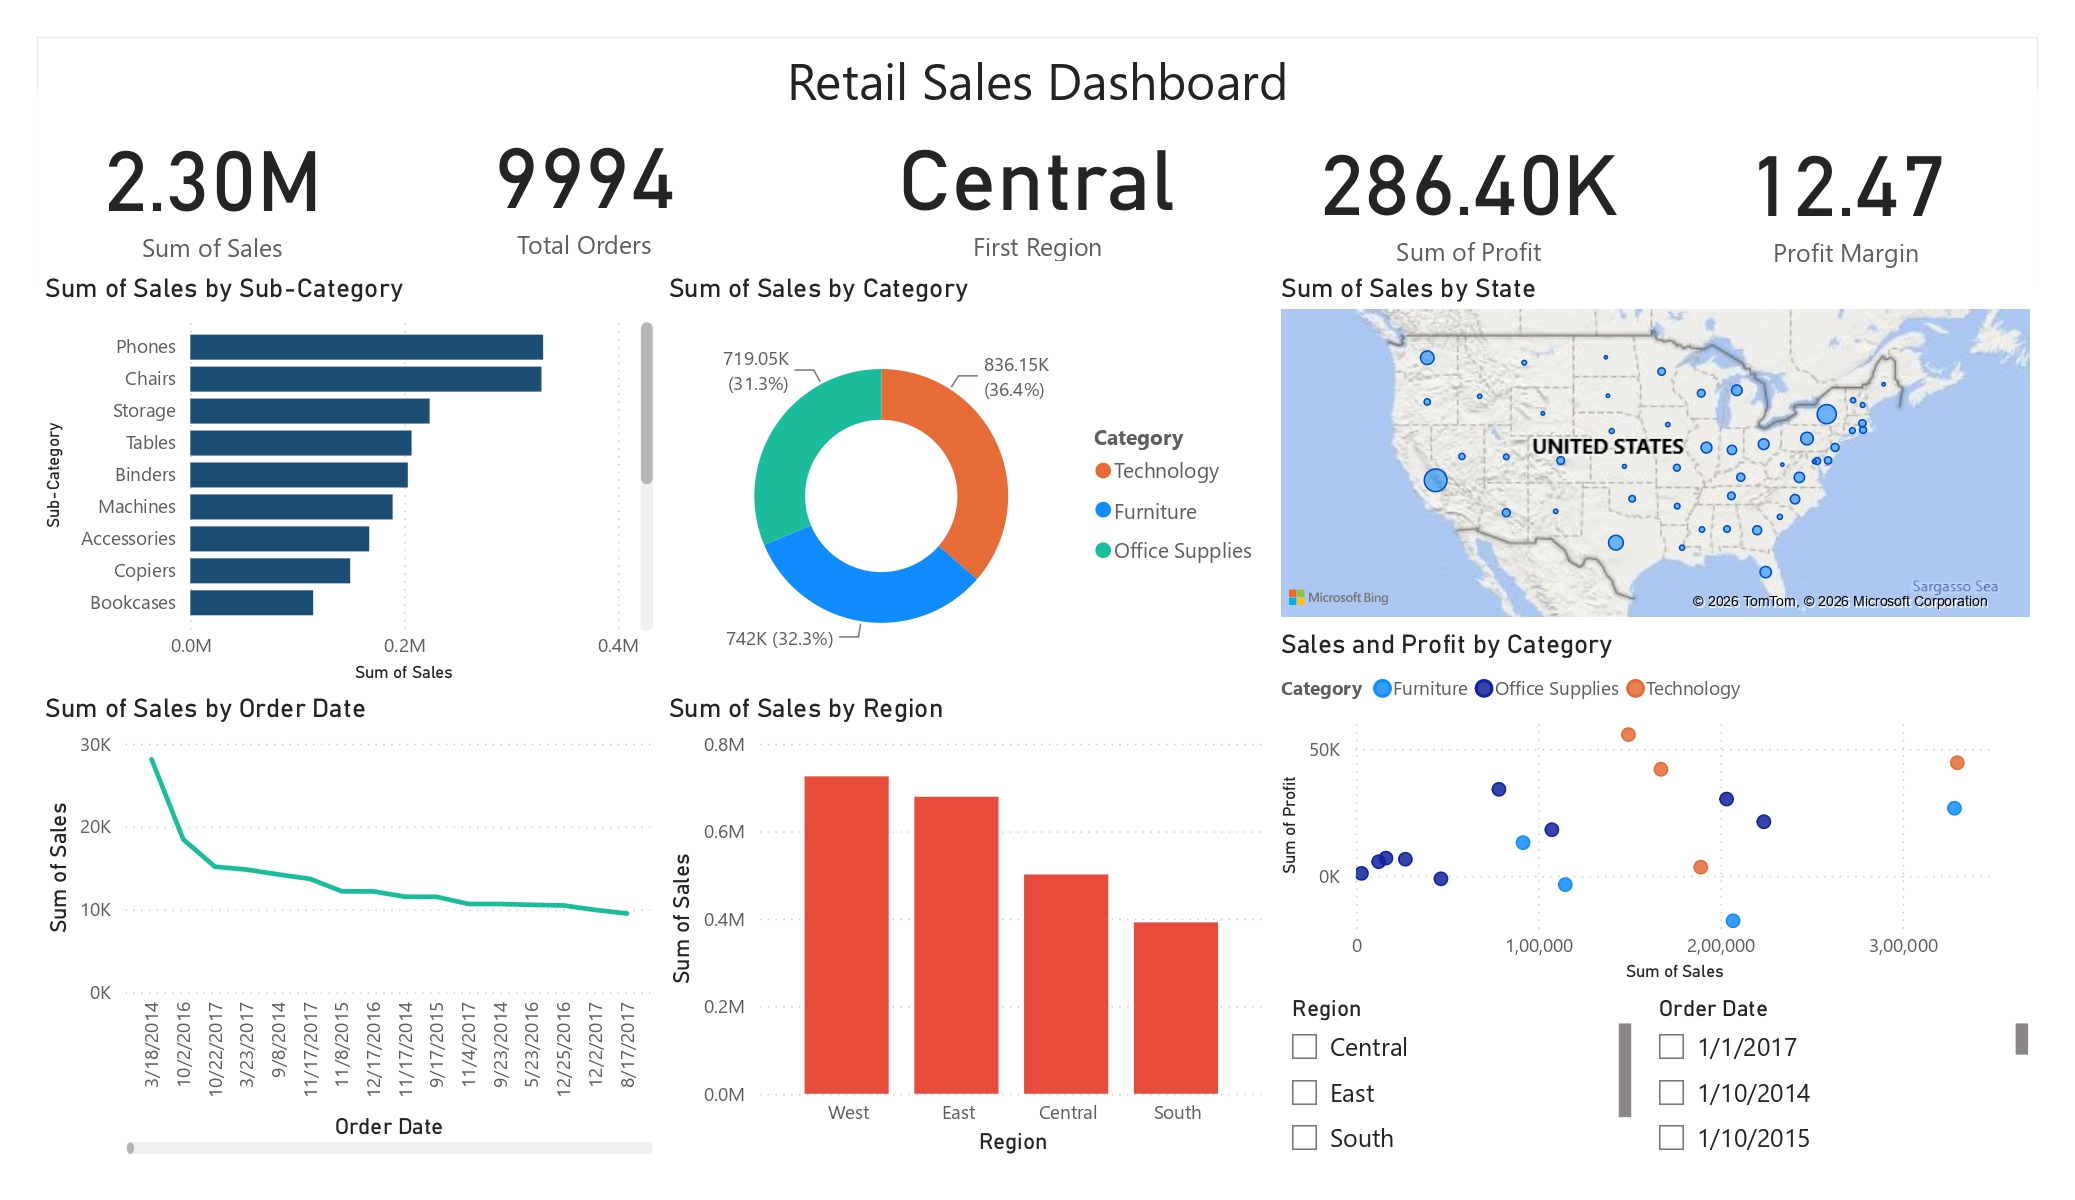

What the dashboard file says about the page in this screenshot:
{"tool":"powerbi","page":{"name":"Sales_Dashboard","canvas":[1280,720],"ordinal":0},"visuals":[{"type":"card","fields":{"Values":["Sum(superstore.Sales)"]},"box":[0,41.6,223.7,108.8],"z":0},{"type":"card","fields":{"Values":["CountNonNull(superstore.Order ID)"]},"box":[249.4,40.3,201.7,107.6],"z":1000},{"type":"card","fields":{"Values":["Min(superstore.Region)"]},"box":[530.5,41.6,218.8,106.3],"z":2000},{"type":"clusteredBarChart","fields":{"Category":["superstore.Sub-Category"],"Y":["Sum(superstore.Sales)"]},"box":[0,150.4,398.5,268.9],"z":3000},{"type":"donutChart","fields":{"Category":["superstore.Category"],"Y":["Sum(superstore.Sales)"]},"box":[398.5,150.4,392.4,267.7],"z":4000},{"type":"lineChart","fields":{"Category":["superstore.Order Date"],"Y":["Sum(superstore.Sales)"]},"box":[0,419.3,398.5,300.7],"z":5000},{"type":"clusteredColumnChart","fields":{"Category":["superstore.Region"],"Y":["Sum(superstore.Sales)"]},"box":[398.5,419.3,392.4,300.7],"z":6000},{"type":"card","fields":{"Values":["Sum(superstore.Profit)"]},"box":[797,44,238.4,108.8],"z":7000},{"type":"card","fields":{"Values":["superstore.Profit Margin"]},"box":[1035.4,45.2,244.5,107.6],"z":8000},{"type":"map","fields":{"Category":["superstore.State"],"Size":["Sum(superstore.Sales)"]},"box":[790.9,150.4,489,227.4],"z":9000},{"type":"scatterChart","title":"Sales and Profit by Category","fields":{"Category":["superstore.Sub-Category"],"Series":["superstore.Category"],"X":["superstore.Sales"],"Y":["Sum(superstore.Profit)"]},"box":[790.9,377.7,489,231],"z":10000},{"type":"slicer","fields":{"Values":["superstore.Region"]},"box":[790.4,607.9,234.6,112.5],"z":11000},{"type":"slicer","fields":{"Values":["superstore.Order Date"]},"box":[1025,607.9,253.9,112.5],"z":12000},{"type":"textbox","box":[0,0,1279.9,52.6],"z":13000}]}

Visuals, with their boxes on the page's 1280x720 design canvas (x1, y1, x2, y2). These are canvas units, not pixel positions in the 2075x1200 screenshot, which may show the page scaled, cropped or inside an application window:
card - Sum(superstore.Sales): <bbox>0, 42, 224, 150</bbox>
card - CountNonNull(superstore.Order ID): <bbox>249, 40, 451, 148</bbox>
card - Min(superstore.Region): <bbox>530, 42, 749, 148</bbox>
clusteredBarChart - superstore.Sub-Category x Sum(superstore.Sales): <bbox>0, 150, 398, 419</bbox>
donutChart - superstore.Category x Sum(superstore.Sales): <bbox>398, 150, 791, 418</bbox>
lineChart - superstore.Order Date x Sum(superstore.Sales): <bbox>0, 419, 398, 720</bbox>
clusteredColumnChart - superstore.Region x Sum(superstore.Sales): <bbox>398, 419, 791, 720</bbox>
card - Sum(superstore.Profit): <bbox>797, 44, 1035, 153</bbox>
card - superstore.Profit Margin: <bbox>1035, 45, 1280, 153</bbox>
map - superstore.State x Sum(superstore.Sales): <bbox>791, 150, 1280, 378</bbox>
"Sales and Profit by Category" scatterChart: <bbox>791, 378, 1280, 609</bbox>
slicer - superstore.Region: <bbox>790, 608, 1025, 720</bbox>
slicer - superstore.Order Date: <bbox>1025, 608, 1279, 720</bbox>
textbox: <bbox>0, 0, 1280, 53</bbox>
